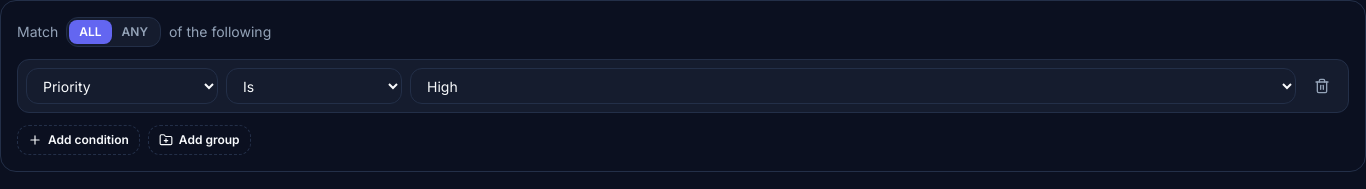
ConditionBuilder › offers operators for the field type and renders a matching value input
The width and height of the screenshot is (1366, 189).
Select "Created Date" in the dropdown named "Field": (122, 86) [26, 68, 218, 104]
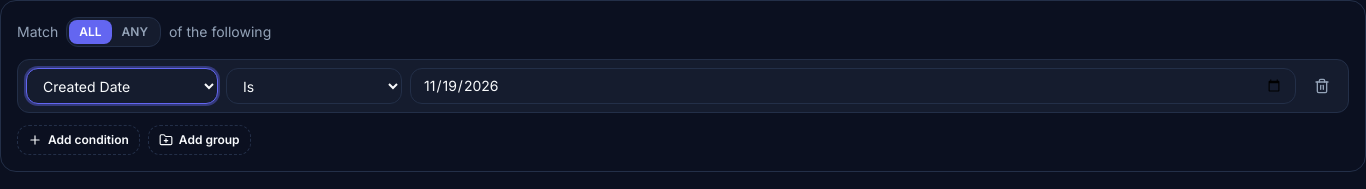
Select "Is Within Last" in the dropdown named "Operator": (314, 86) [226, 68, 402, 104]
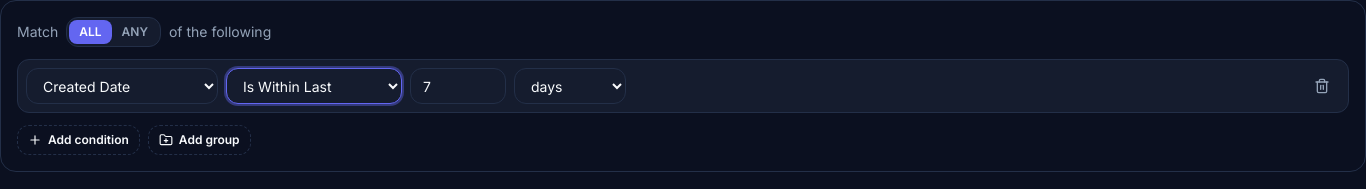
Now the dropdown named "Time unit" shows "days", box [514, 68, 626, 104]
Select "Is Unassigned" in the dropdown named "Field": (122, 86) [26, 68, 218, 104]
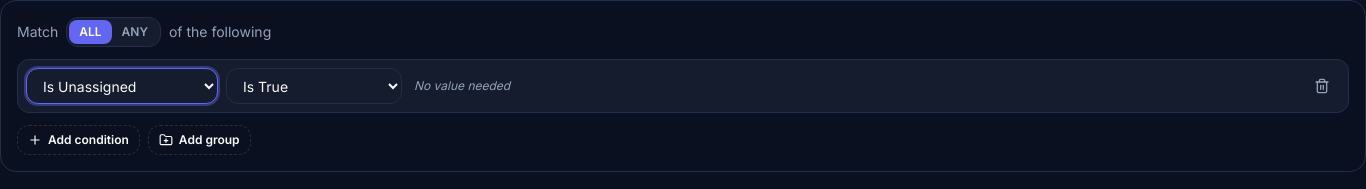
Now the text "No value needed" is shown, box [414, 78, 510, 93]
Select "Message Count" in the dropdown named "Field": (122, 86) [26, 68, 218, 104]
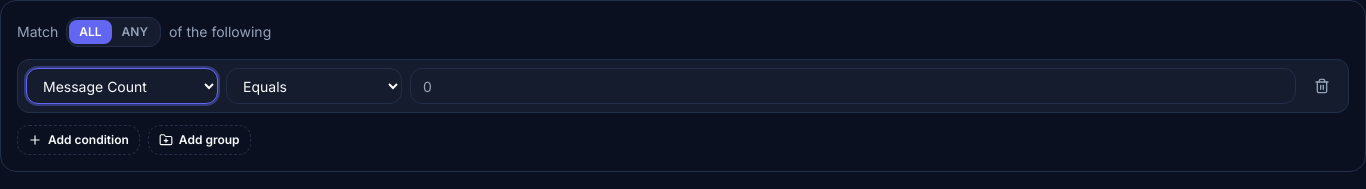
Now the number field named "Message Count value" has attribute type="number", box [410, 68, 1296, 104]
